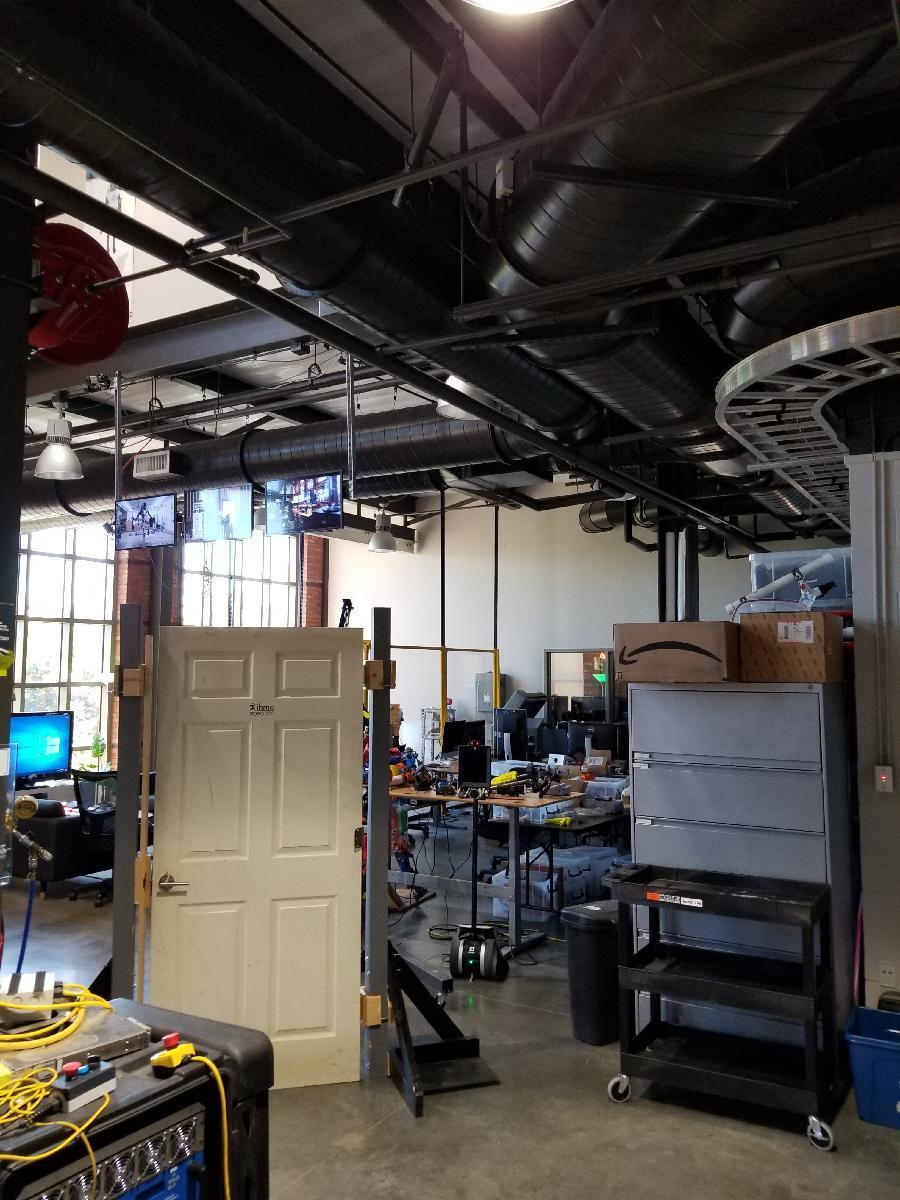door: (156, 628, 368, 1089)
handle: (155, 869, 193, 894)
